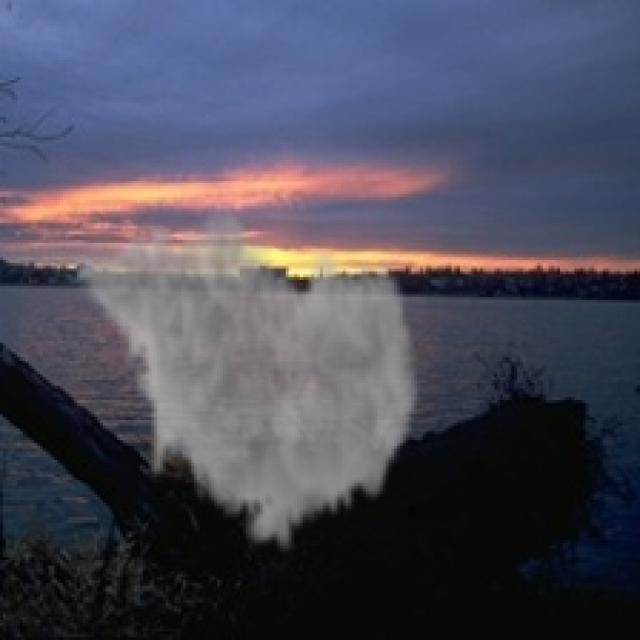smoke: (71, 200, 423, 560)
